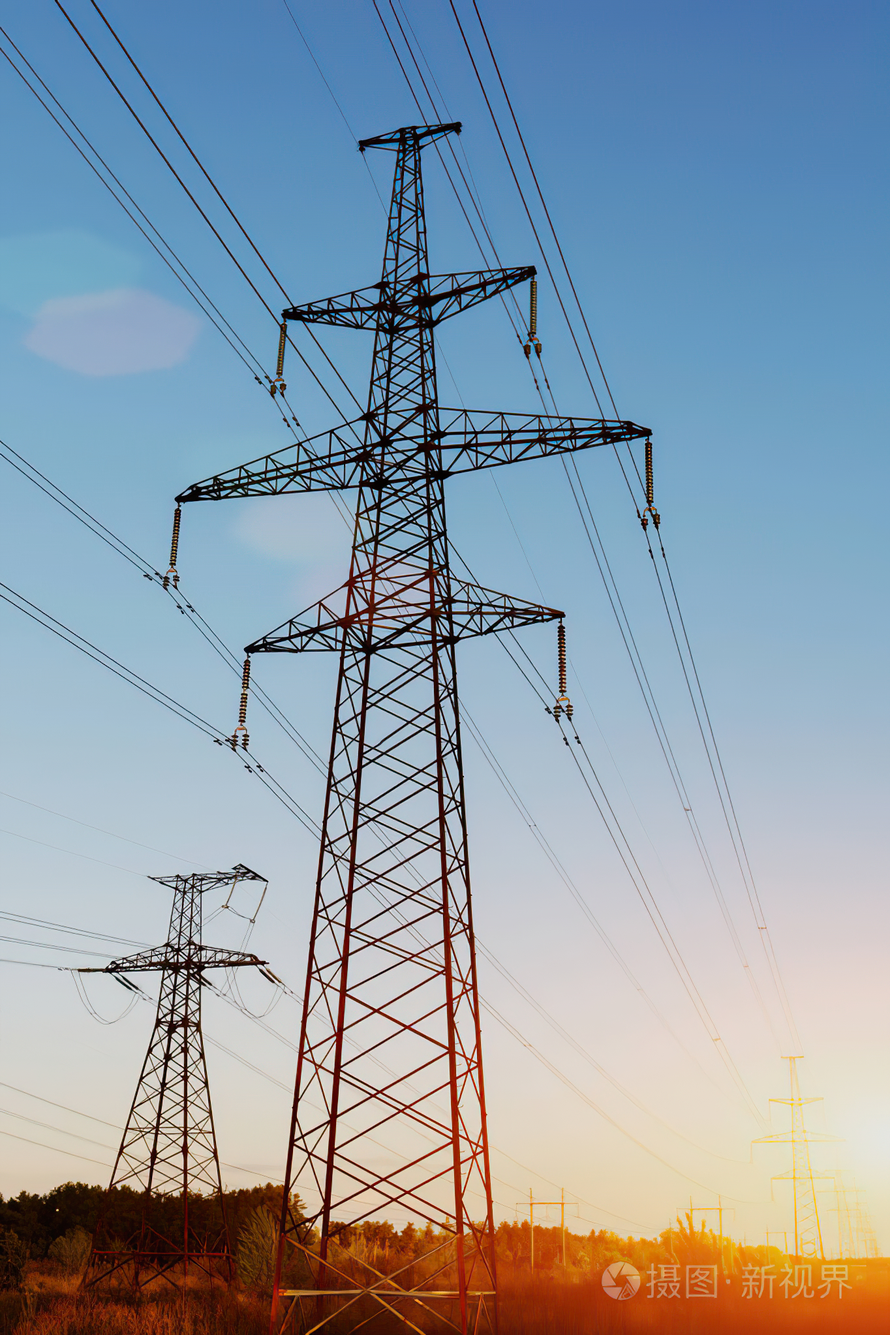insulator: (555, 623, 571, 696), (641, 440, 657, 507), (166, 507, 182, 566), (239, 657, 253, 722), (275, 322, 289, 377), (529, 279, 541, 335)
